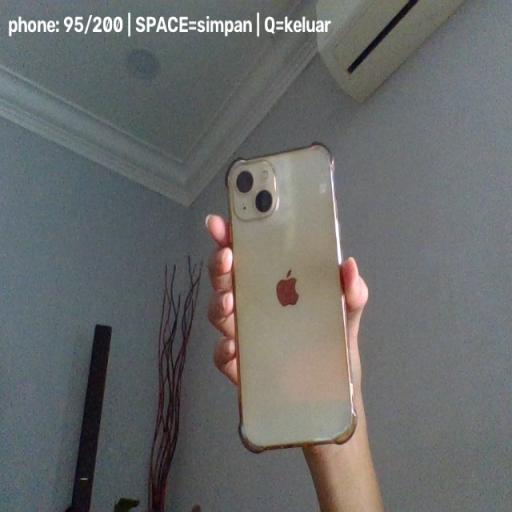Phone: (225, 141, 356, 454)
